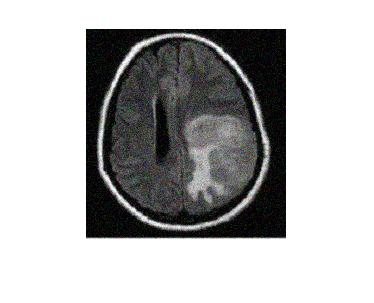Brain_Cancer: (185, 112, 243, 194)
